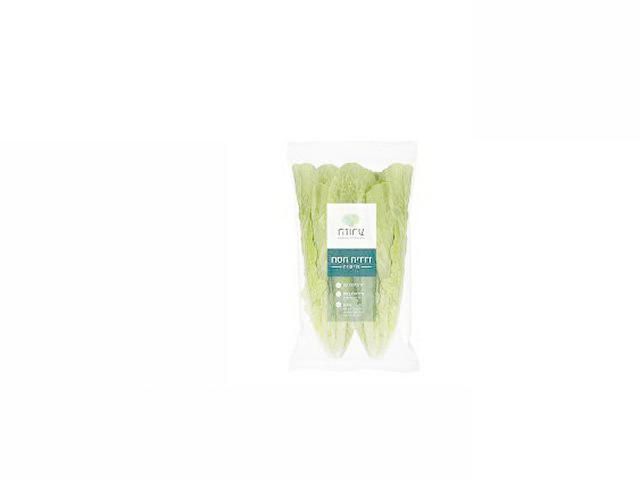lettuce: (214, 156, 334, 354)
